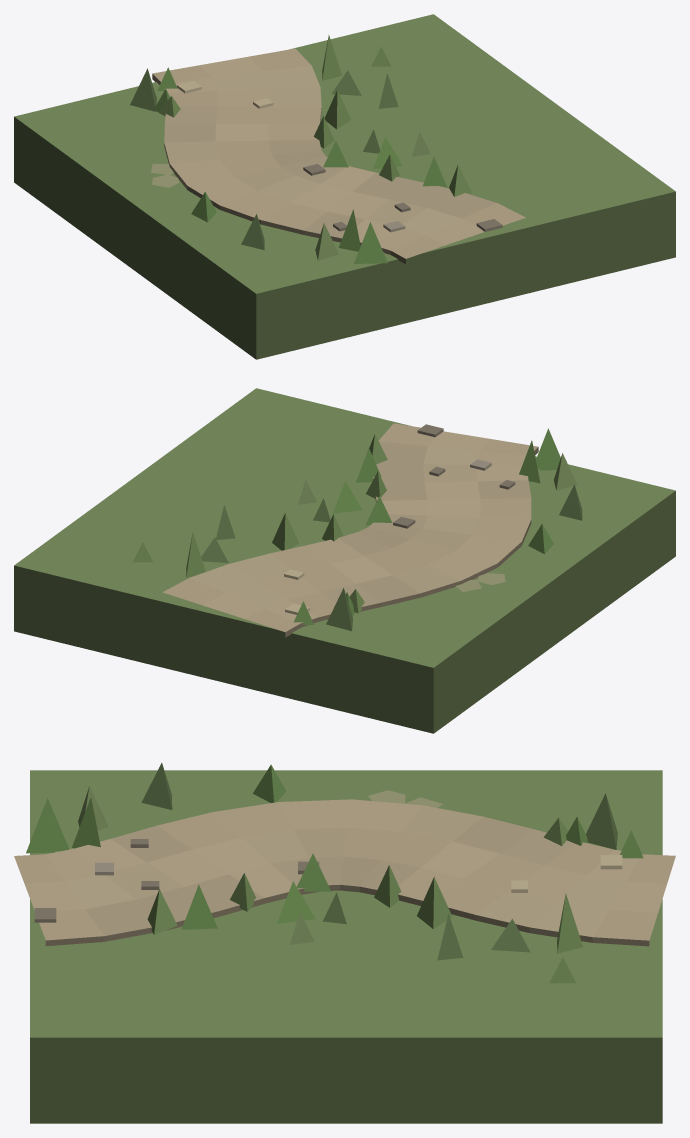
The model's file is t_footpath_6.glb.
3 renders of one model, top to bottom at view 1: azimuth 30°, elevation 25°; view 2: azimuth 150°, elevation 25°; view 3: azimuth 270°, elevation 25°, orthographic. The views are drawn at different scales.
Visible parts, largest first — view 1: t_footpath_6; view 2: t_footpath_6; view 3: t_footpath_6.
Part boxes in pixels (x1,y1,x2,y2): t_footpath_6: [14, 14, 675, 359]; t_footpath_6: [14, 388, 675, 733]; t_footpath_6: [14, 762, 675, 1123].
Bounding box in the file's own units: 2 × 0.4898 × 2.09.
